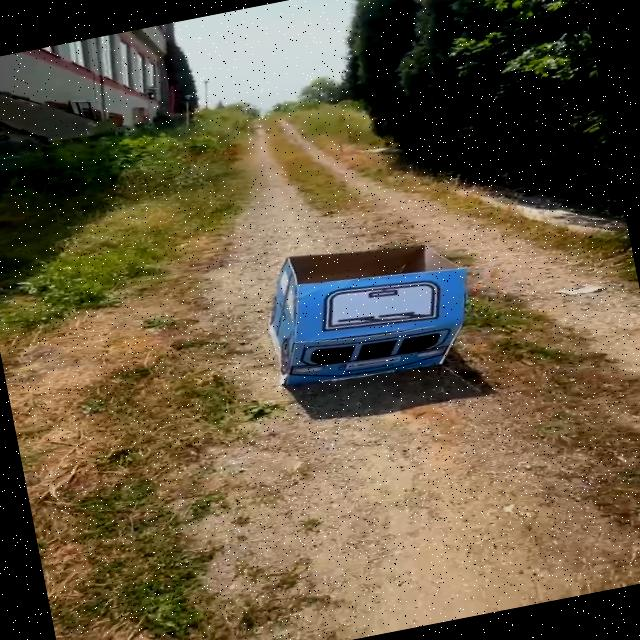blue_car: (230, 214, 490, 421)
